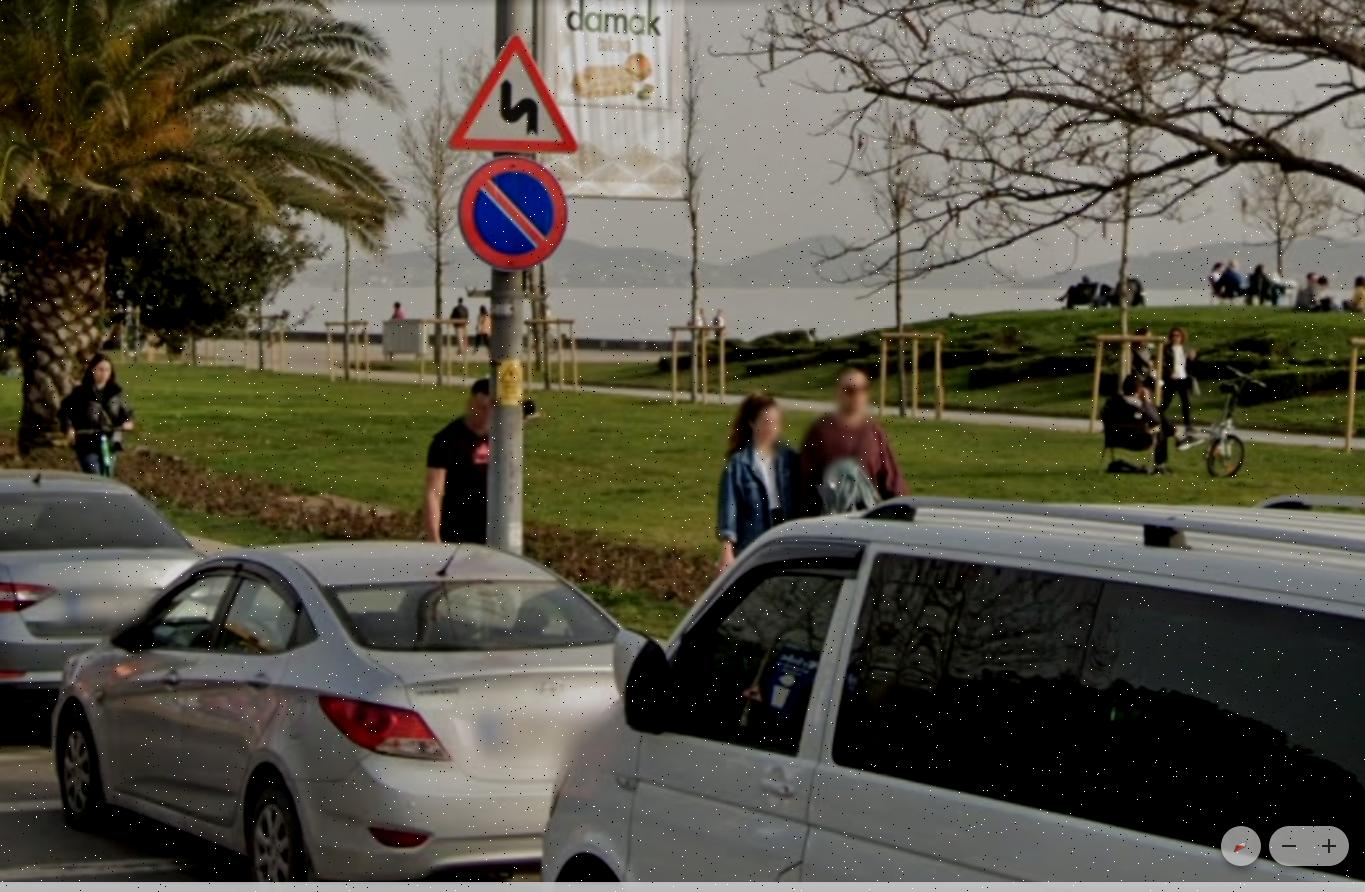nopark: (468, 165, 568, 267)
